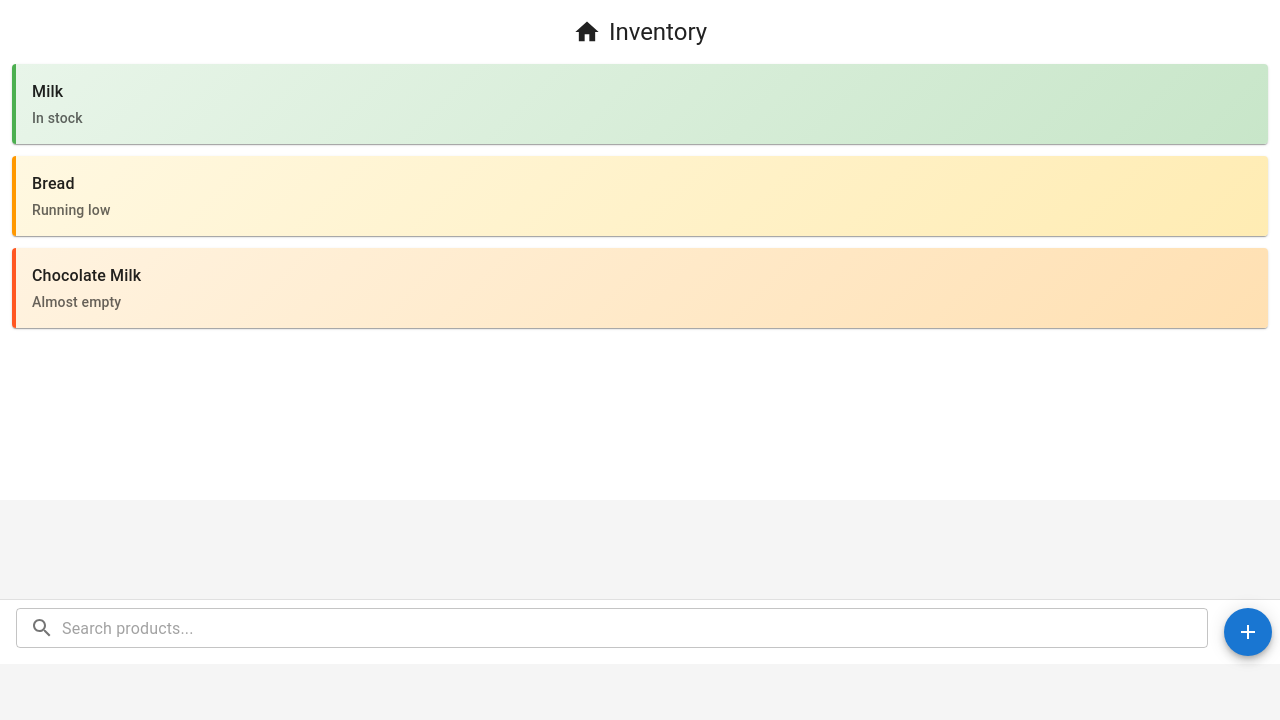
Test: InventoryList › Search functionality › should filter products by name
expect the heading "Milk" is shown: met, box [32,82,63,101]
Type "milk" into the field with placeholder "Search products...".
click(635, 628); type("milk")  # box [62,608,1208,648]
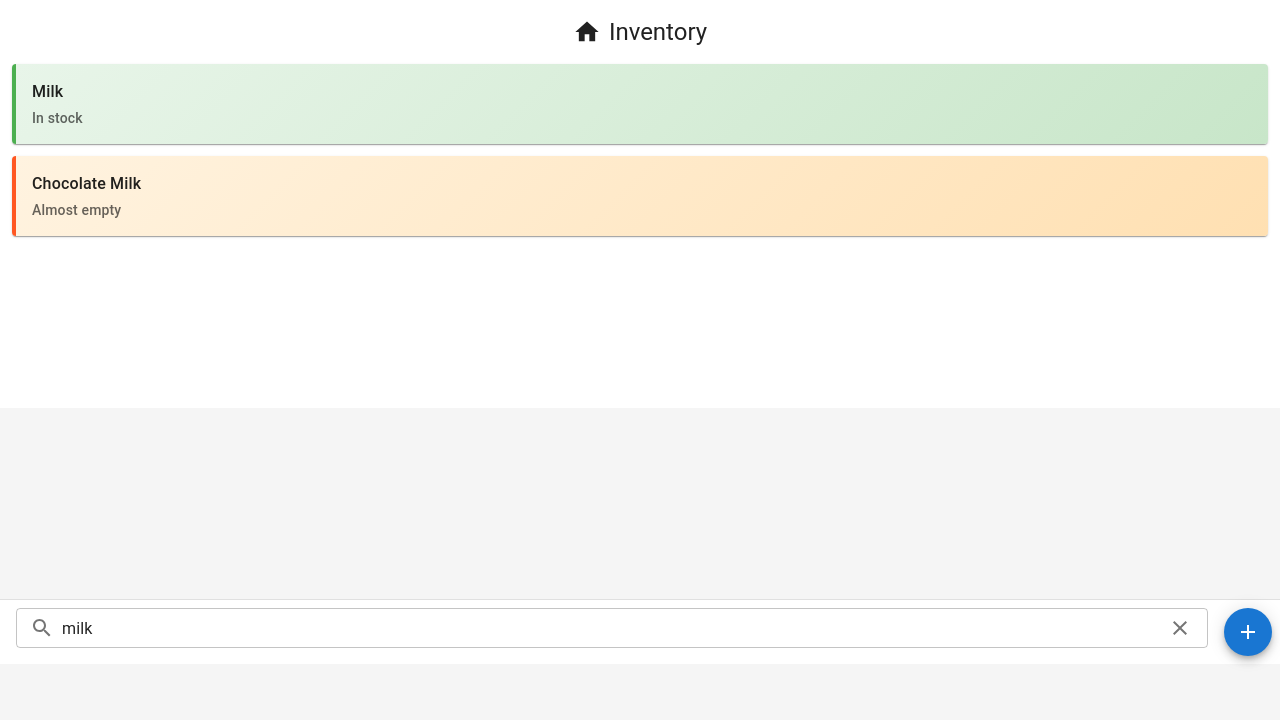
expect the heading "Milk" is shown: met, box [32,82,63,101]
expect the heading "Bread" is gone: met
